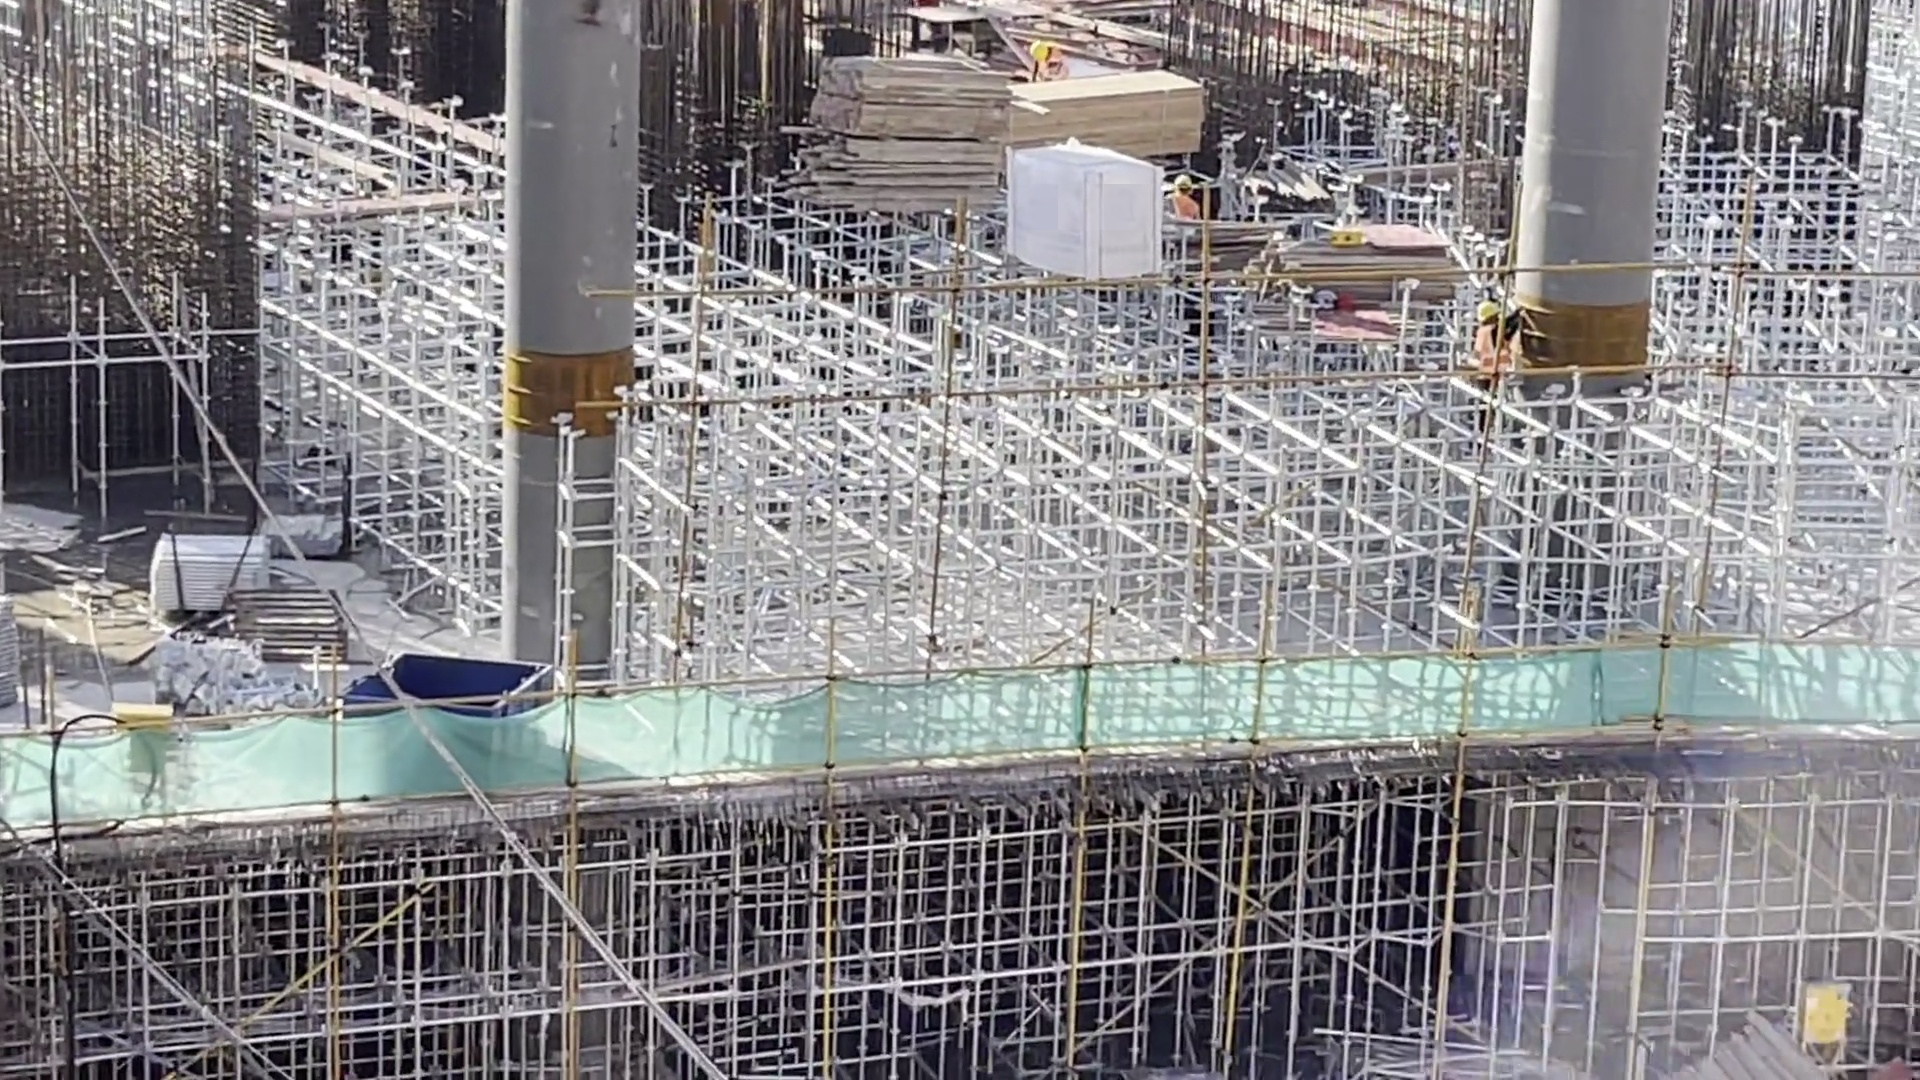board: (1244, 221, 1475, 306)
ebox: (1792, 972, 1851, 1054)
helmet: (1476, 301, 1501, 321), (1028, 43, 1048, 61)
hopper: (341, 645, 559, 695)
person: (1471, 301, 1527, 377), (1027, 42, 1071, 83), (1171, 174, 1203, 221)
scaffold: (154, 532, 263, 606)
vest: (1476, 323, 1514, 374), (1168, 195, 1204, 220)
wood: (778, 52, 1001, 216), (1004, 67, 1206, 149), (1671, 1013, 1818, 1080)
